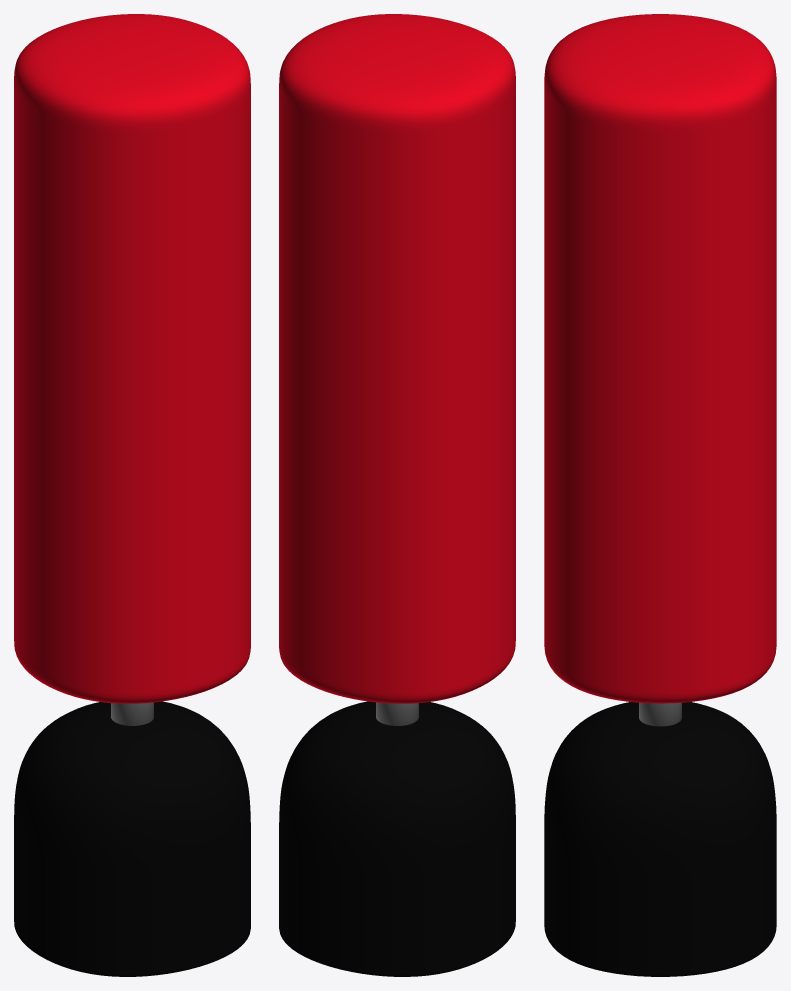
The model's file is easy_standing_punchingbag.glb.
3 views of the same model, side by side, from view 1: azimuth 30°, elevation 25°; view 2: azimuth 150°, elevation 25°; view 3: azimuth 270°, elevation 25° (orthographic).
Visible parts, largest first — view 1: Cube.001_2, Cube_0, Cylinder_1; view 2: Cube.001_2, Cube_0, Cylinder_1; view 3: Cube.001_2, Cube_0, Cylinder_1.
Part boxes in pixels (x1=…): Cube.001_2: x1=14, y1=14, x2=250, y2=703; Cube_0: x1=14, y1=701, x2=250, y2=976; Cylinder_1: x1=111, y1=702, x2=153, y2=725; Cube.001_2: x1=279, y1=14, x2=515, y2=703; Cube_0: x1=279, y1=701, x2=515, y2=976; Cylinder_1: x1=376, y1=702, x2=418, y2=725; Cube.001_2: x1=544, y1=14, x2=776, y2=703; Cube_0: x1=544, y1=702, x2=776, y2=976; Cylinder_1: x1=639, y1=702, x2=681, y2=726.
Bounding box in the file's own units: 1.83 × 7.72 × 1.83.
